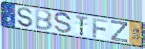B: (34, 9, 53, 32)
F: (92, 17, 110, 39)
S: (54, 12, 73, 35), (16, 7, 34, 29)
T: (75, 15, 90, 38)
Z: (111, 20, 130, 44)
